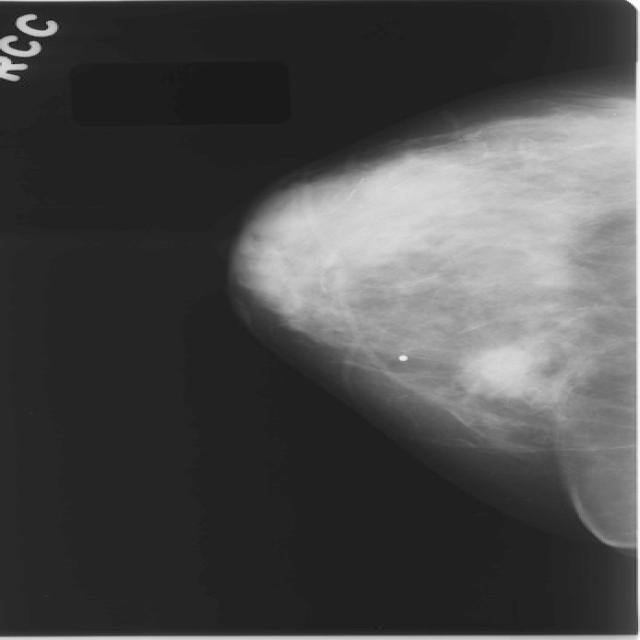tumour: (461, 346, 540, 396)
